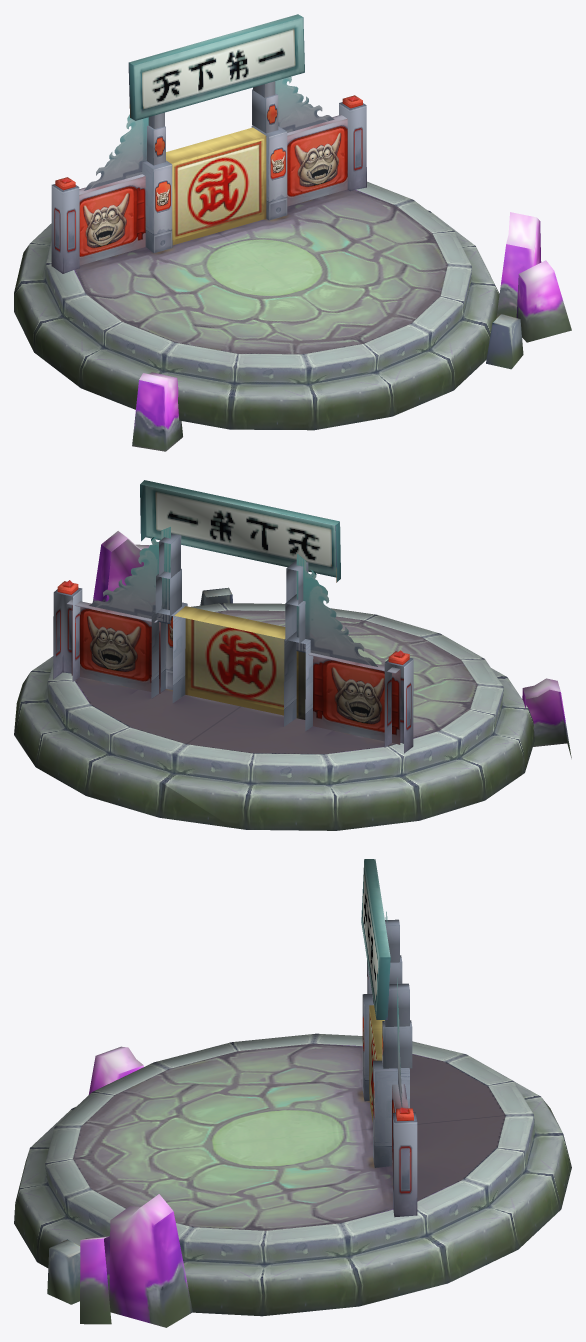
3 views of the same model, one above another, from view 1: azimuth 30°, elevation 25°; view 2: azimuth 150°, elevation 25°; view 3: azimuth 270°, elevation 25° (orthographic). The views are drawn at different scales.
Visible parts, largest first — view 1: Object192; view 2: Object192; view 3: Object192.
Part boxes in pixels (<box>): Object192: <box>14,14,571,451</box>; Object192: <box>14,480,571,830</box>; Object192: <box>14,859,571,1327</box>.
Size of the model in its own units: 509 by 308 by 487.
